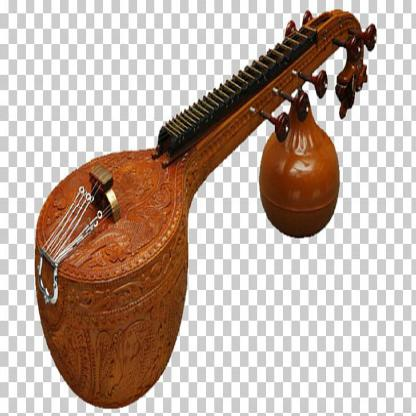Veena: (27, 38, 300, 412)
